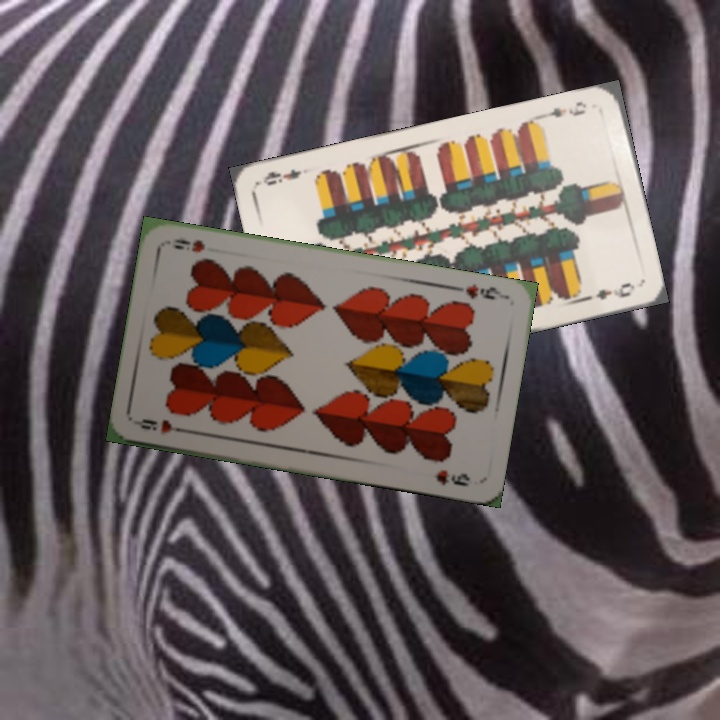E9: (539, 97, 589, 121)
H9: (133, 414, 192, 436), (450, 280, 509, 302)
